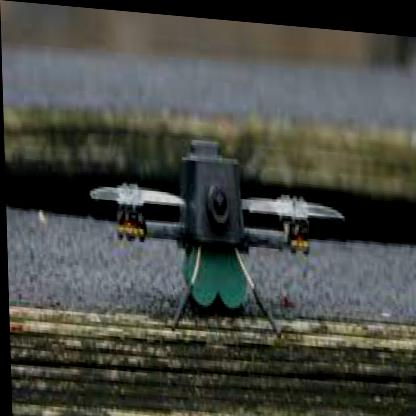UAS: (86, 127, 346, 337)
